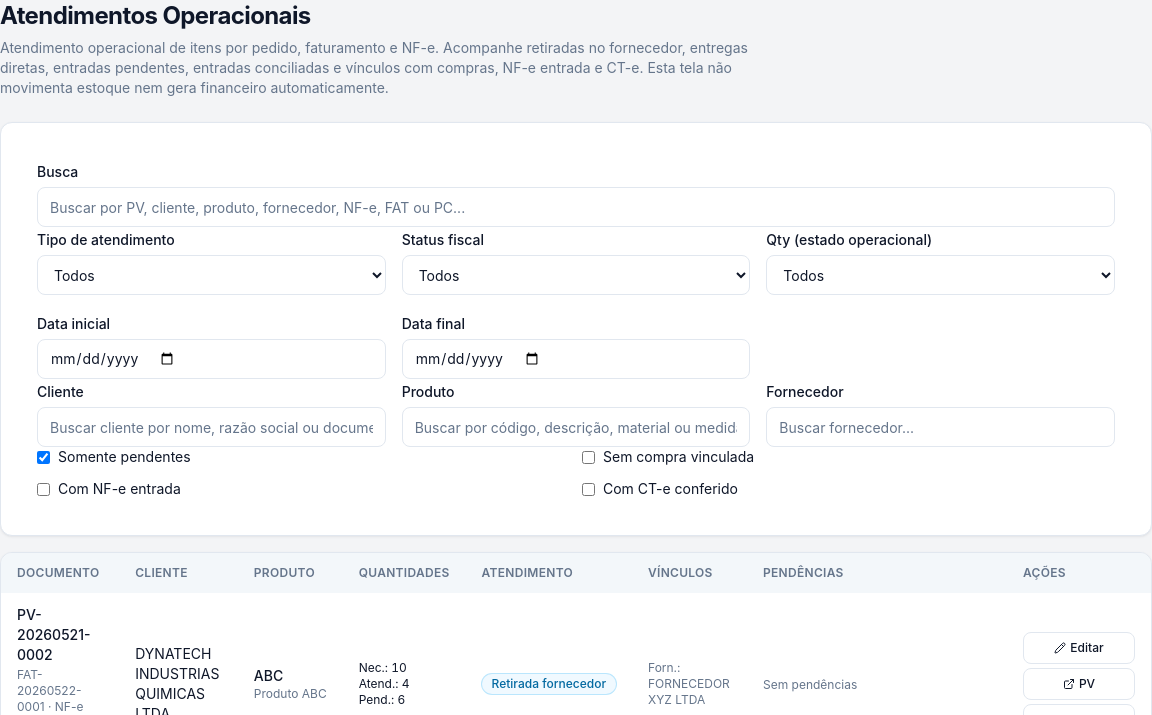
ERP 4.0.13.1 — Atendimentos Operacionais › botão editar abre formulário com aviso de segurança
Click the button "Editar" at x=1079, y=648, box [1023, 632, 1135, 664]
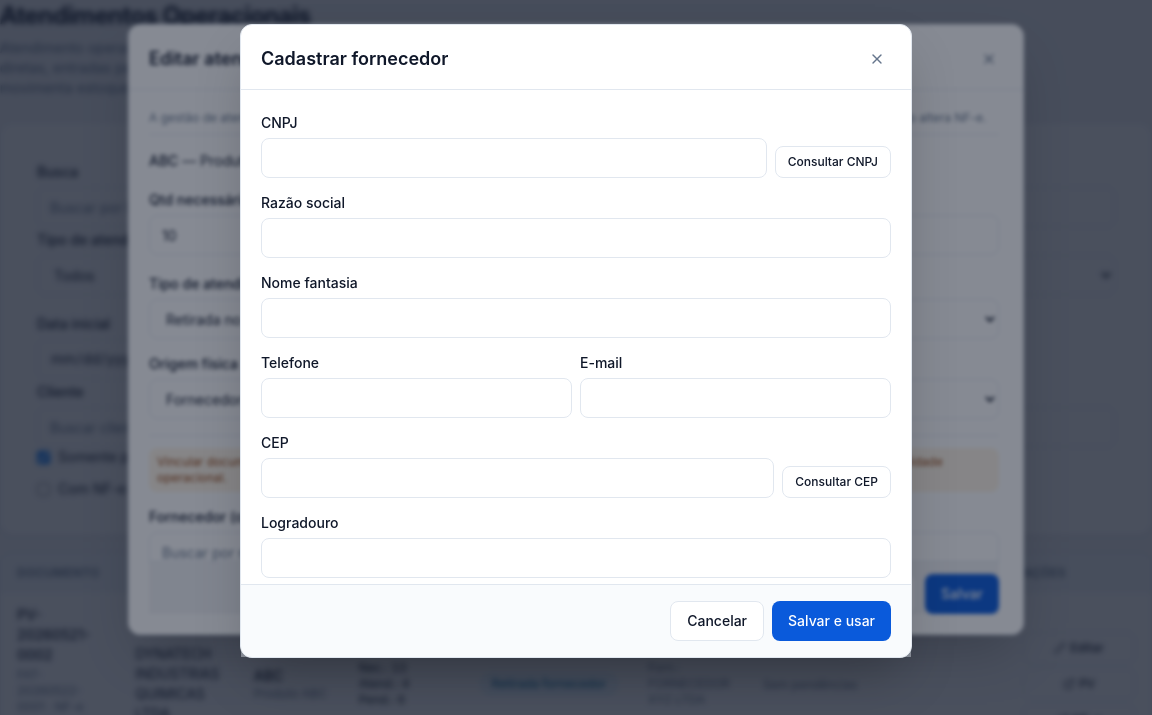
Expected: the text "não movimenta estoque" is shown, [0, 39, 748, 96]
Expected: the heading "Editar atendimento operacional" is shown, [149, 45, 420, 73]
